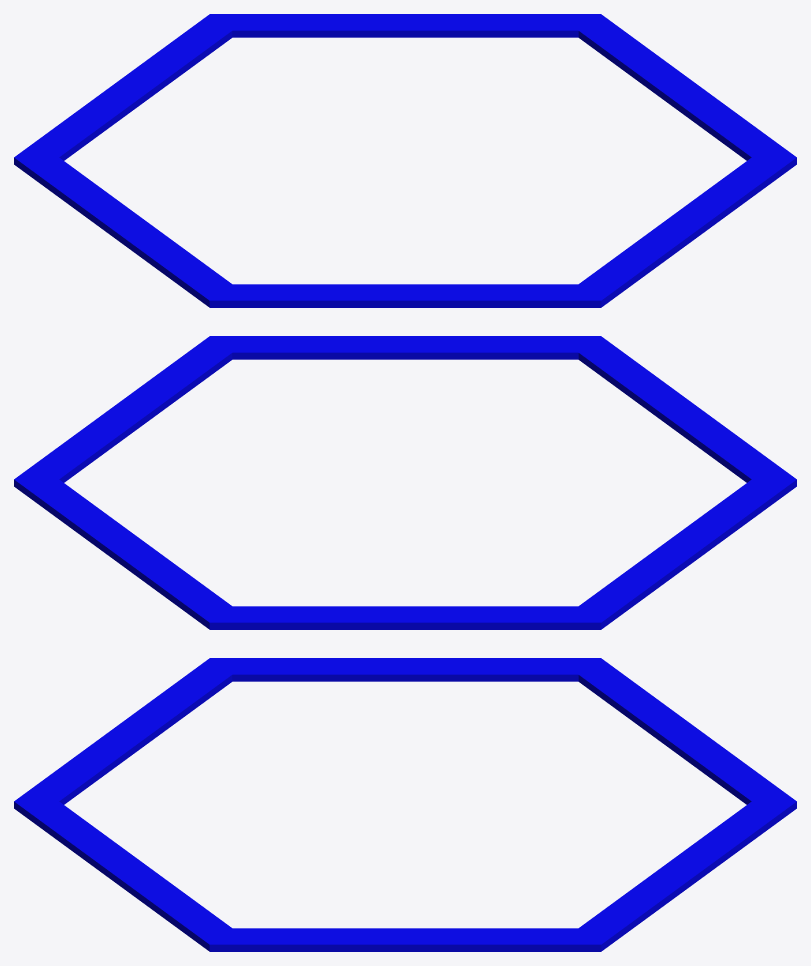
File: MovementMarker.fbx
The picture shows the model from 3 angles, top to bottom: view 1: azimuth 30°, elevation 25°; view 2: azimuth 150°, elevation 25°; view 3: azimuth 270°, elevation 25°; orthographic projection.
Visible parts, largest first — view 1: Circle; view 2: Circle; view 3: Circle.
Part boxes in pixels (left/top/right/bottom): Circle: left=14, top=14, right=796, bottom=307; Circle: left=14, top=336, right=796, bottom=629; Circle: left=14, top=658, right=796, bottom=951.
Size of the model in its own units: 173 by 2 by 200.
